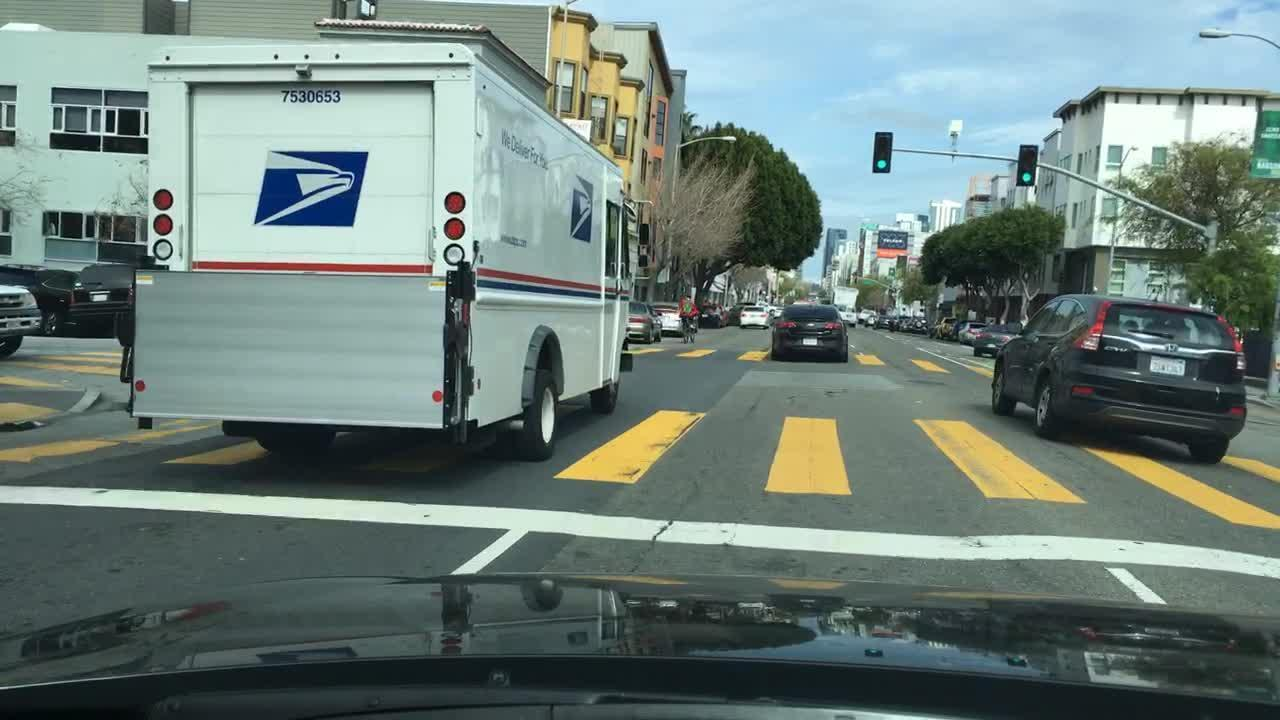Honda: (1161, 336, 1181, 359)
